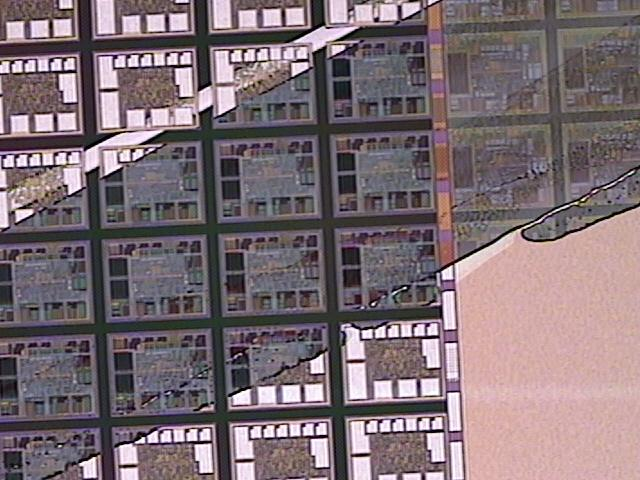COATING BAD: (2, 1, 640, 480)
